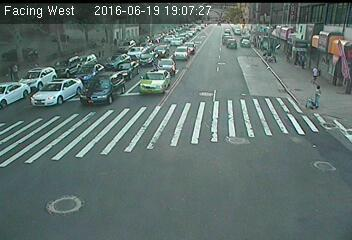neg: (57, 27, 74, 50), (214, 32, 231, 55), (250, 33, 262, 49), (52, 80, 63, 95), (99, 78, 109, 92), (297, 74, 305, 85)
pos: (308, 82, 327, 108), (309, 62, 327, 86), (288, 46, 305, 69), (4, 61, 20, 82), (297, 51, 311, 71)
